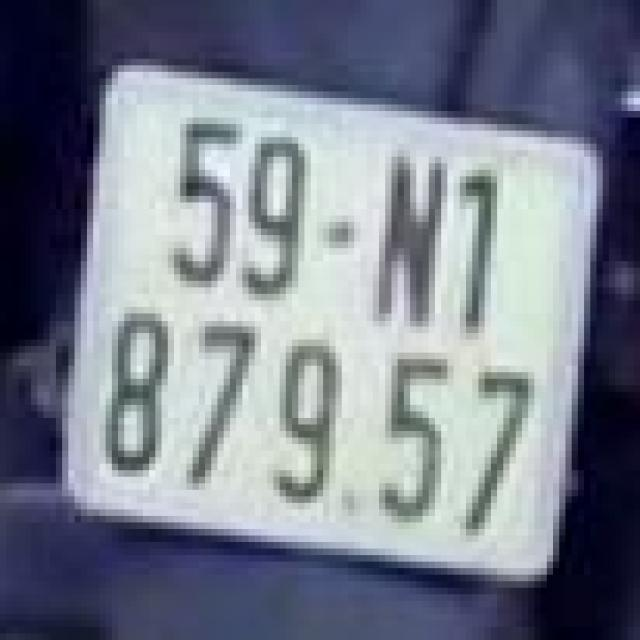1: (450, 153, 519, 343)
5: (162, 114, 242, 284), (382, 350, 451, 532)
7: (174, 314, 267, 510), (457, 359, 538, 549)
8: (96, 300, 171, 497)
9: (261, 333, 342, 516), (239, 117, 308, 307)
N: (370, 137, 450, 333)
